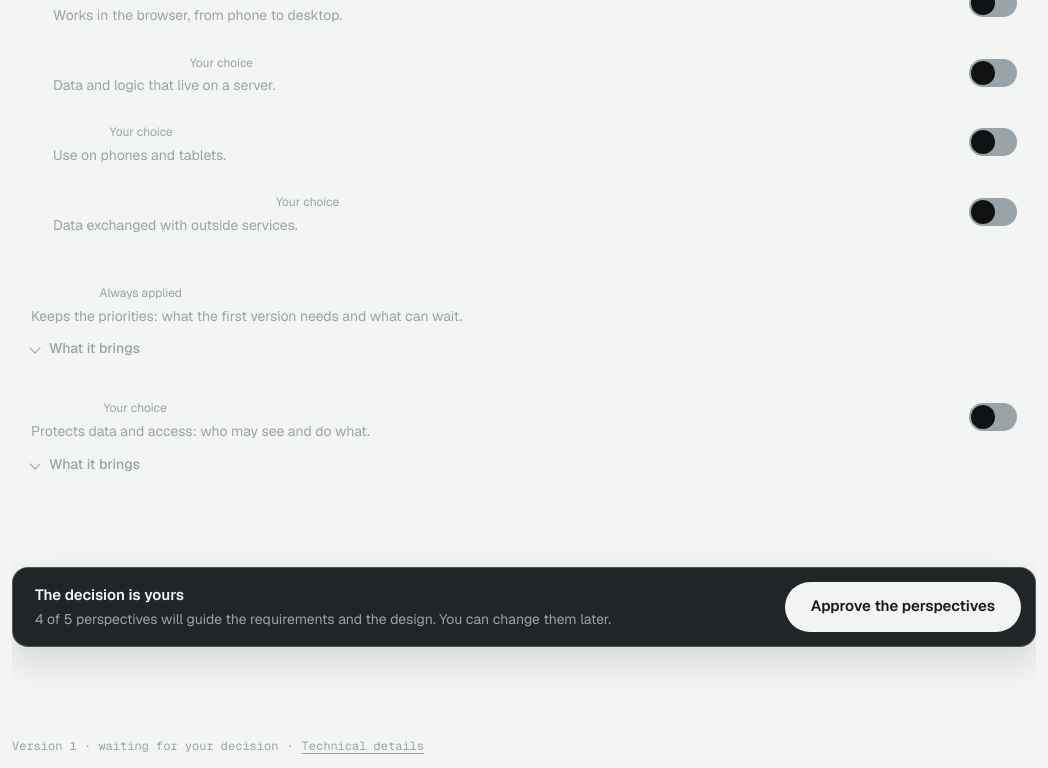
ProjectTeamSelectionFlow › undoes a pending change and keeps the decision disabled meanwhile
(page scrolled)
Click the switch labelled "Security" at (991, 417), box x1=965 y1=395 x2=1017 y2=439
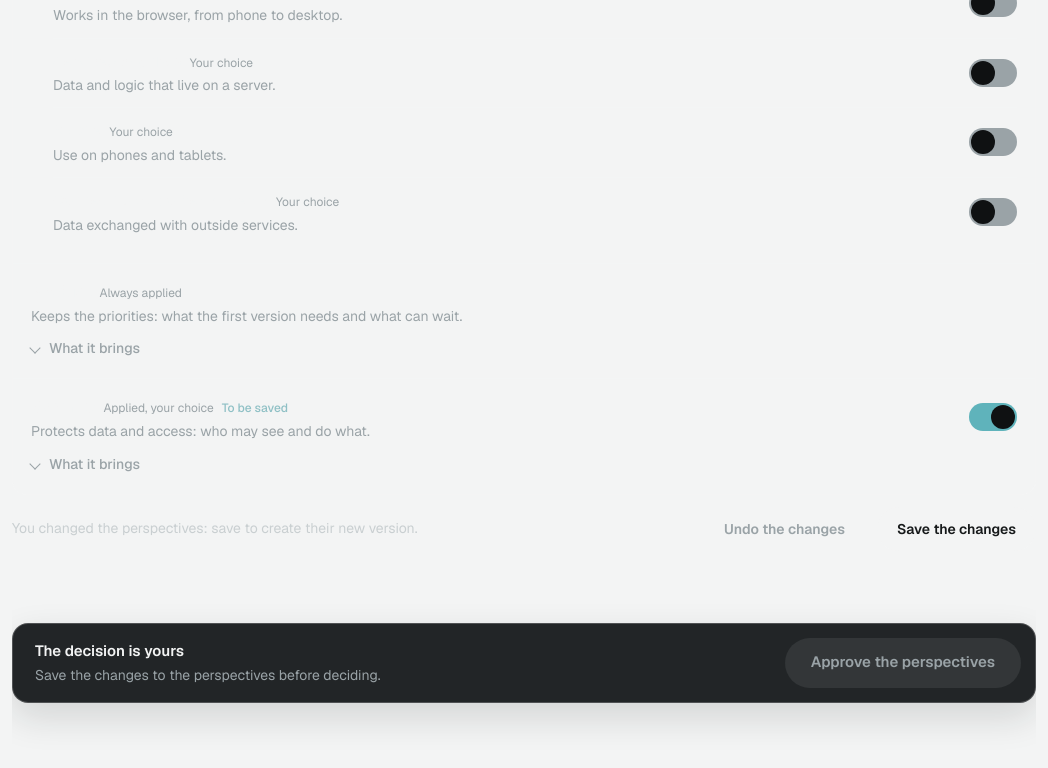
Now the button with test id "decision-primary" is disabled, box x1=785 y1=638 x2=1021 y2=688
Click the button with test id "discard-team-changes" at (784, 529), box x1=704 y1=507 x2=865 y2=551
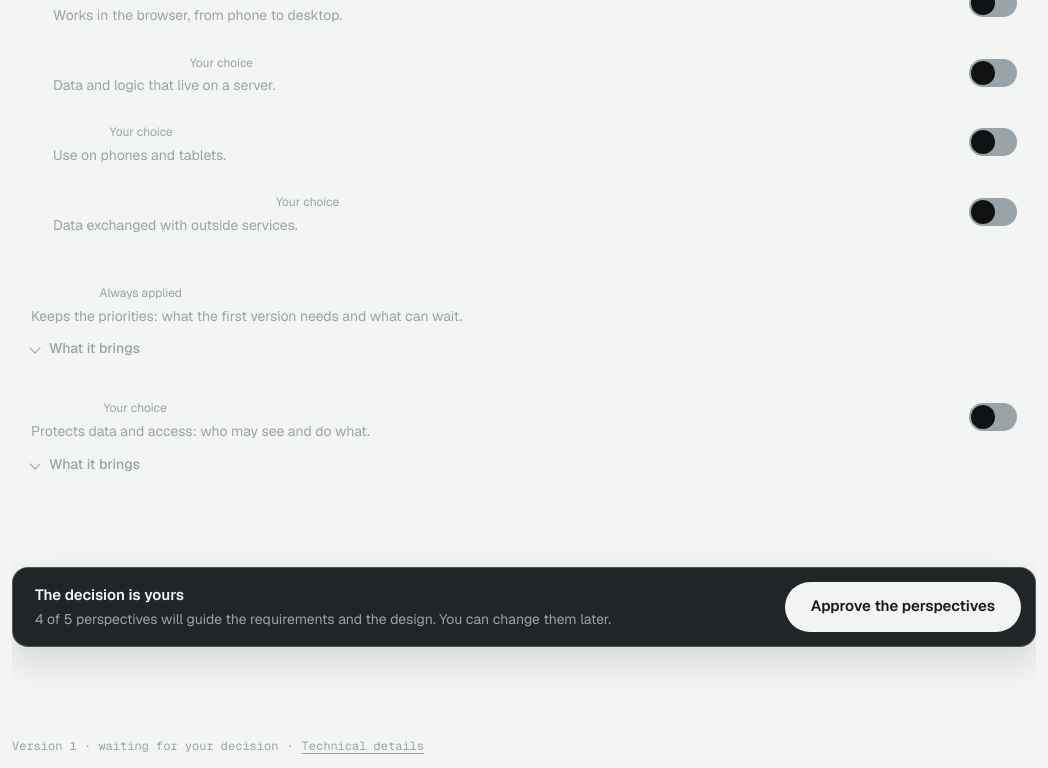
Now the button with test id "decision-primary" is enabled, box x1=785 y1=582 x2=1021 y2=632
